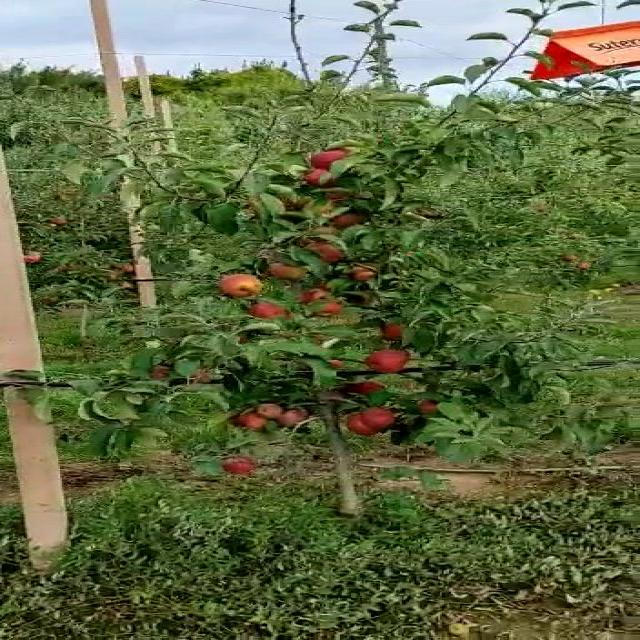100-_ripeness: (364, 343, 420, 373), (307, 144, 360, 172), (342, 377, 396, 404), (268, 405, 316, 434), (218, 275, 266, 303), (296, 293, 353, 316), (296, 164, 344, 190), (296, 243, 351, 264), (340, 415, 384, 439), (360, 405, 400, 431), (247, 301, 289, 325), (325, 205, 362, 230), (236, 408, 282, 428), (262, 263, 300, 287), (378, 318, 415, 340), (344, 263, 384, 283), (260, 400, 289, 416)
